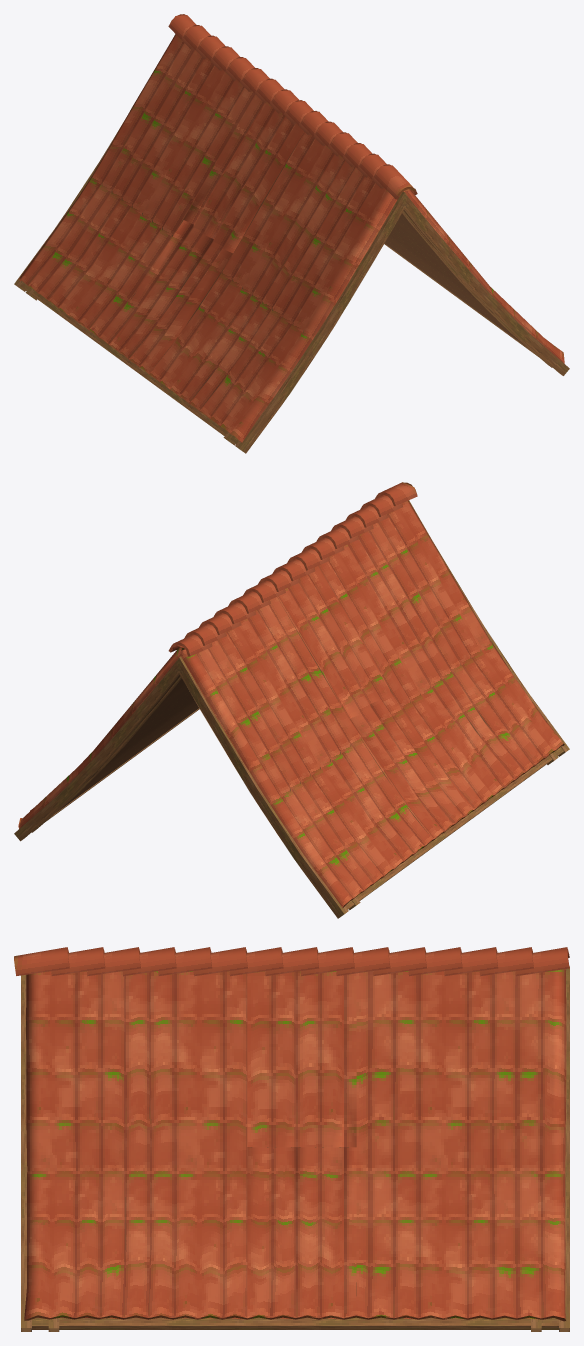
File: roof_round_tiles_8x10.glb
The picture shows the model from 3 angles, top to bottom: view 1: azimuth 30°, elevation 25°; view 2: azimuth 150°, elevation 25°; view 3: azimuth 270°, elevation 25°; orthographic projection. The views are drawn at different scales.
Visible parts, largest first — view 1: Roof_RoundTiles_8x10; view 2: Roof_RoundTiles_8x10; view 3: Roof_RoundTiles_8x10.
Part boxes in pixels (bbox=[...]): Roof_RoundTiles_8x10: bbox=[14, 14, 569, 453]; Roof_RoundTiles_8x10: bbox=[14, 482, 569, 918]; Roof_RoundTiles_8x10: bbox=[14, 947, 569, 1331].
Size of the model in its own units: 9.95 by 6.78 by 11.86.
2 materials, 2 textured.
